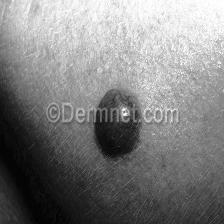Benign Marking or Mole: (93, 88, 141, 154)
